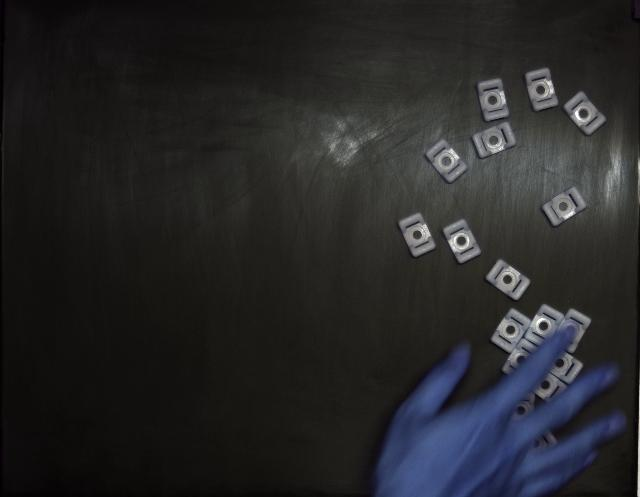first_side: (562, 91, 606, 135), (425, 139, 468, 182), (541, 186, 586, 226), (485, 260, 530, 300), (442, 219, 481, 264), (491, 309, 530, 352), (399, 212, 435, 258), (472, 122, 516, 159), (525, 68, 559, 111), (478, 79, 509, 121)
